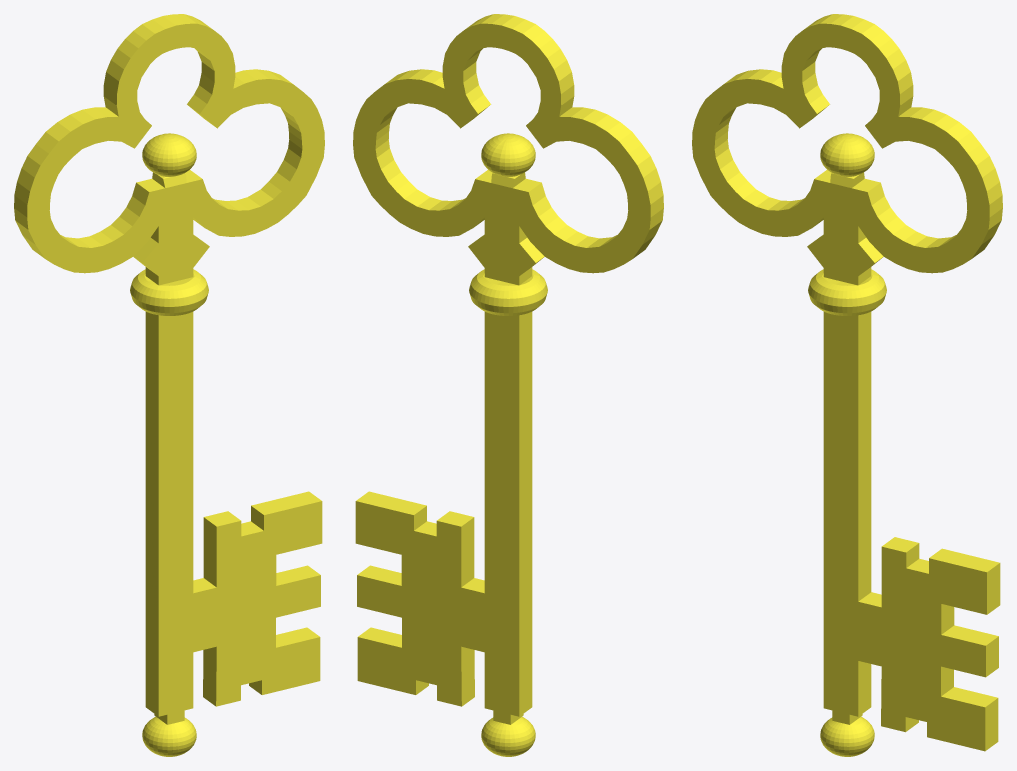
File: Key.fbx
The picture shows the model from 3 angles, left to right: view 1: azimuth 30°, elevation 25°; view 2: azimuth 150°, elevation 25°; view 3: azimuth 330°, elevation 25°; orthographic projection.
Visible parts, largest first — view 1: Cube; view 2: Cube; view 3: Cube.
Boxes of the visible parts, bbox=[...] form: Cube: bbox=[14, 14, 324, 756]; Cube: bbox=[353, 14, 663, 756]; Cube: bbox=[692, 14, 1002, 756].
Size of the model in its own units: 627 by 1474 by 144.
